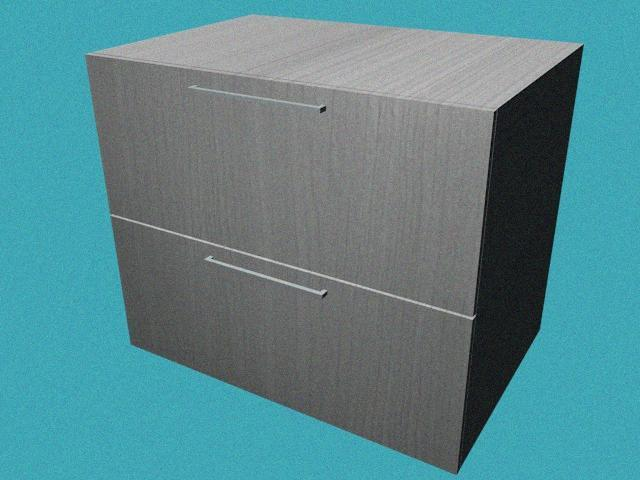cabinet_door: (98, 83, 483, 268), (122, 268, 464, 410)
handle: (203, 247, 329, 300)
